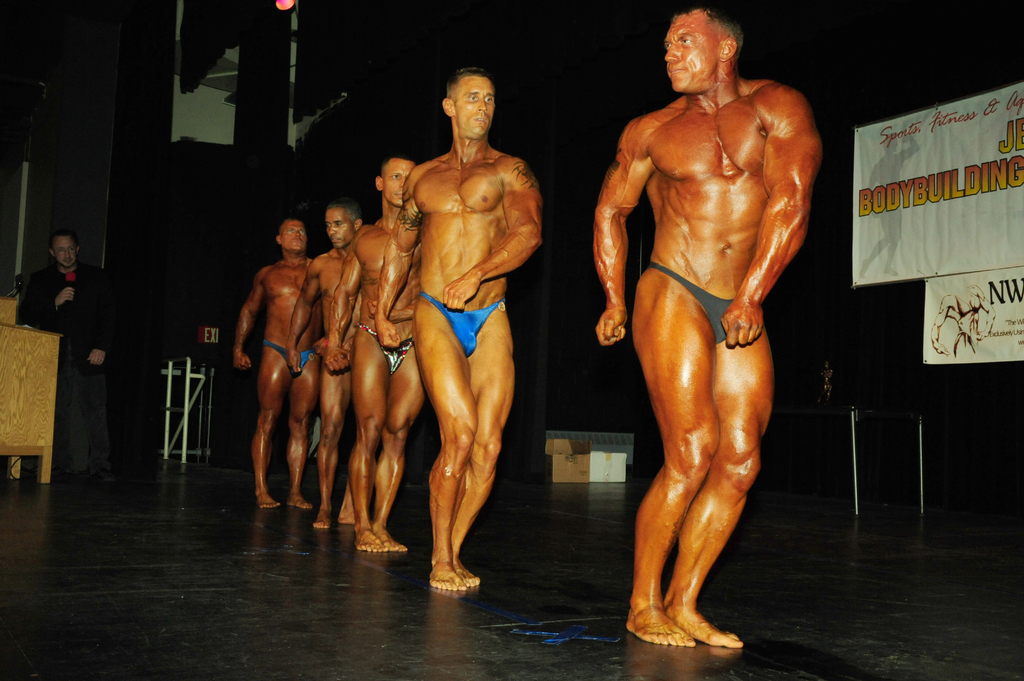Person: (233, 214, 326, 512)
